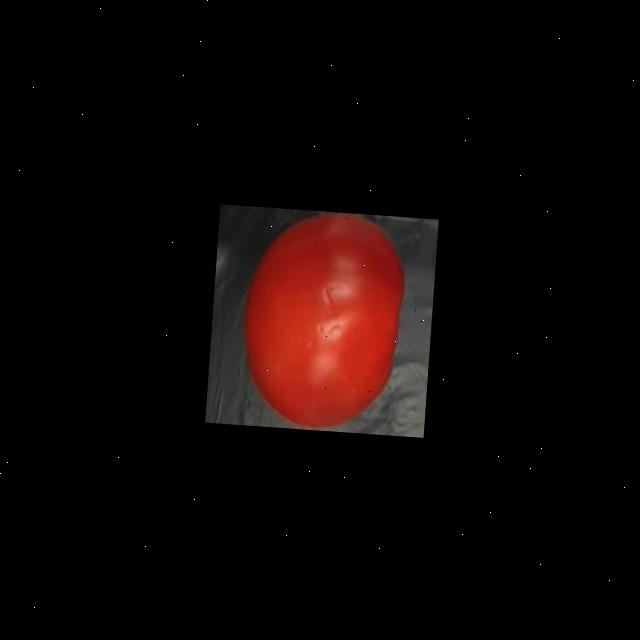tomato: (231, 205, 414, 435)
